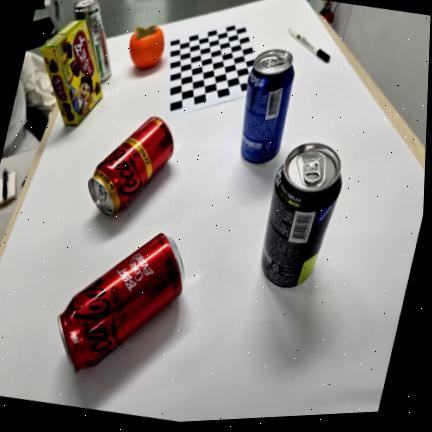can_coke_decaf: (88, 117, 173, 215)
can_coke_zero: (58, 233, 184, 372)
can_pepsi: (241, 49, 294, 164)
can_pepsi_zero: (261, 143, 342, 287)
